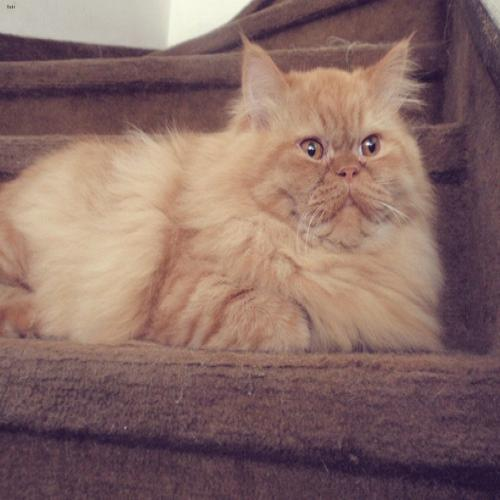persian: (231, 30, 427, 273)
